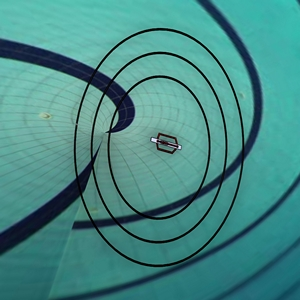circle: (56, 18, 269, 275)
submarine: (139, 124, 187, 157)
